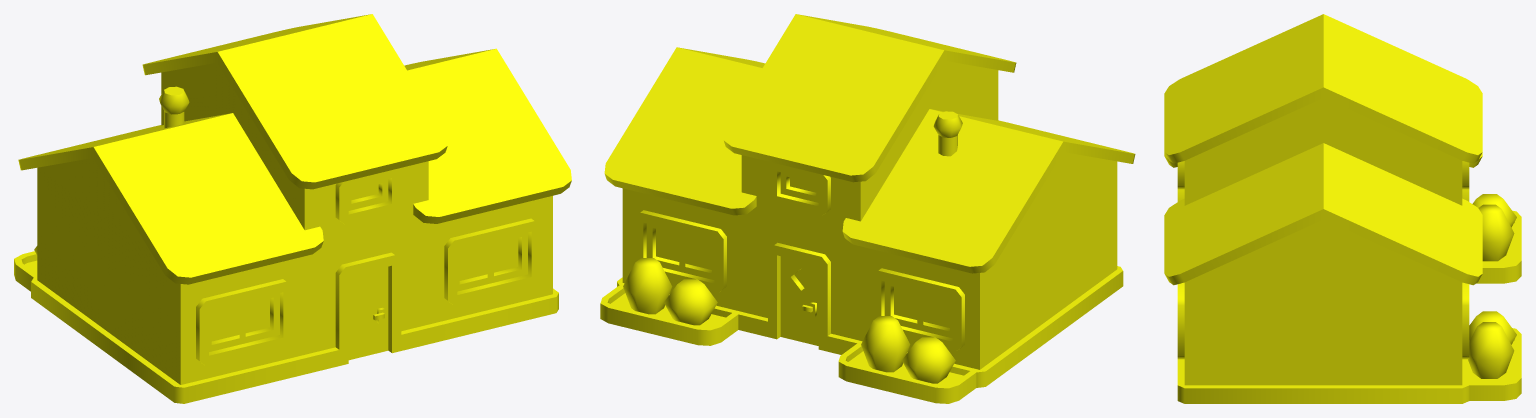
The model's file is residential-0.glb.
The picture shows the model from 3 angles, left to right: view 1: azimuth 30°, elevation 25°; view 2: azimuth 150°, elevation 25°; view 3: azimuth 270°, elevation 25°; orthographic projection. The views are drawn at different scales.
Parts seen in each view (by area): view 1: building-type-a; view 2: building-type-a; view 3: building-type-a.
Part boxes in pixels (x1,y1,x2,y2): building-type-a: [14, 14, 571, 403]; building-type-a: [600, 14, 1135, 403]; building-type-a: [1164, 14, 1521, 403].
Size of the model in its own units: 1.3 by 0.8335 by 1.03.
Materials: 1 (1 with a texture image).
